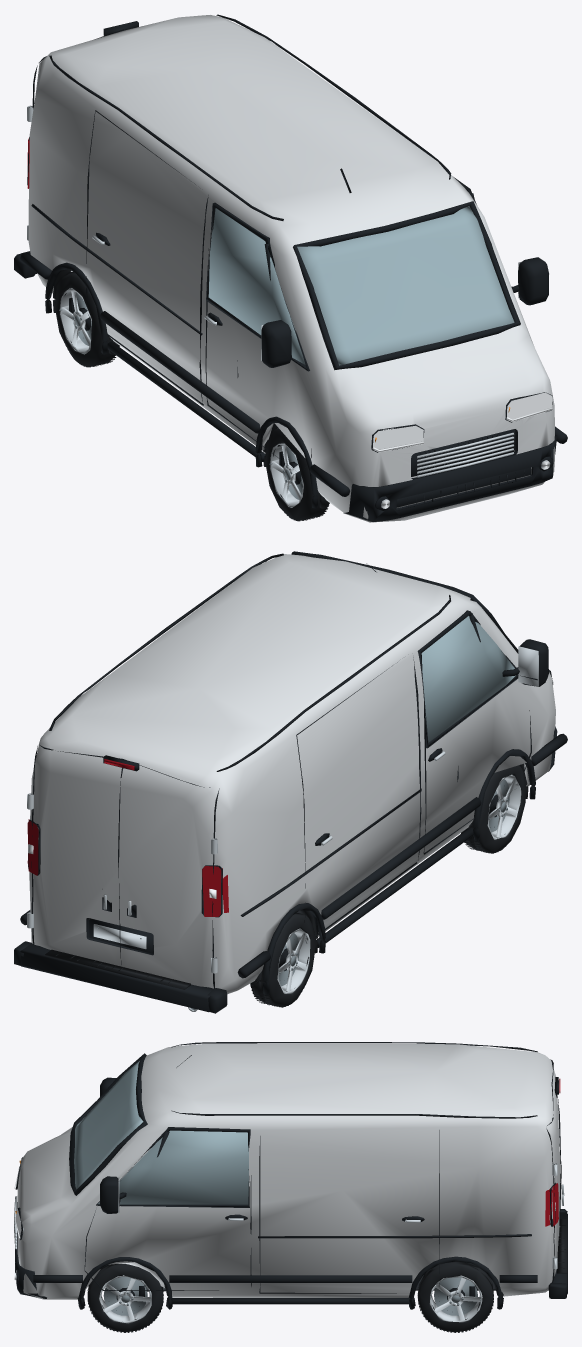
Rendered from van-lod1.glb.
3 renders of one model, top to bottom at view 1: azimuth 30°, elevation 25°; view 2: azimuth 150°, elevation 25°; view 3: azimuth 270°, elevation 25°, orthographic. The views are drawn at different scales.
Visible parts, largest first — view 1: body_paint, body_black.001, body_glass.001, wheelpart_rubber.001 (×2), wheelpart_chrome (×2), body_chrome, body_clearlens; view 2: body_paint, body_black.001, body_glass.001, wheelpart_rubber.001 (×2), wheelpart_chrome (×2), body_chrome, body_redlens, body_rubber.001; view 3: body_paint, body_black.001, body_glass.001, wheelpart_rubber.001 (×2), wheelpart_chrome (×2), wheelpart_steel.001 (×2), body_rubber.001, body_chrome, body_redlens.
Part boxes in pixels (left/top/right/bottom): body_paint: left=28, top=15, right=554, bottom=522; body_black.001: left=14, top=14, right=567, bottom=522; body_glass.001: left=208, top=206, right=514, bottom=365; wheelpart_rubber.001 (×2): left=55, top=272, right=329, bottom=521; wheelpart_chrome (×2): left=60, top=288, right=303, bottom=507; body_chrome: left=27, top=105, right=550, bottom=508; body_clearlens: left=372, top=392, right=552, bottom=508; body_paint: left=29, top=554, right=555, bottom=994; body_black.001: left=14, top=551, right=567, bottom=1013; body_glass.001: left=421, top=616, right=515, bottom=742; wheelpart_rubber.001 (×2): left=250, top=765, right=526, bottom=1007; wheelpart_chrome (×2): left=277, top=774, right=521, bottom=993; body_chrome: left=27, top=646, right=538, bottom=1011; body_redlens: left=27, top=759, right=228, bottom=916; body_rubber.001: left=45, top=763, right=528, bottom=994; body_paint: left=17, top=1044, right=560, bottom=1299; body_black.001: left=15, top=1042, right=567, bottom=1309; body_glass.001: left=74, top=1061, right=248, bottom=1204; wheelpart_rubber.001 (×2): left=87, top=1261, right=493, bottom=1332; wheelpart_chrome (×2): left=99, top=1275, right=482, bottom=1323; wheelpart_steel.001 (×2): left=103, top=1277, right=477, bottom=1315; body_rubber.001: left=77, top=1219, right=567, bottom=1306; body_chrome: left=14, top=1095, right=564, bottom=1280; body_redlens: left=545, top=1078, right=560, bottom=1226.
Bounding box in the file's own units: 2.61 × 2.63 × 5.68.
